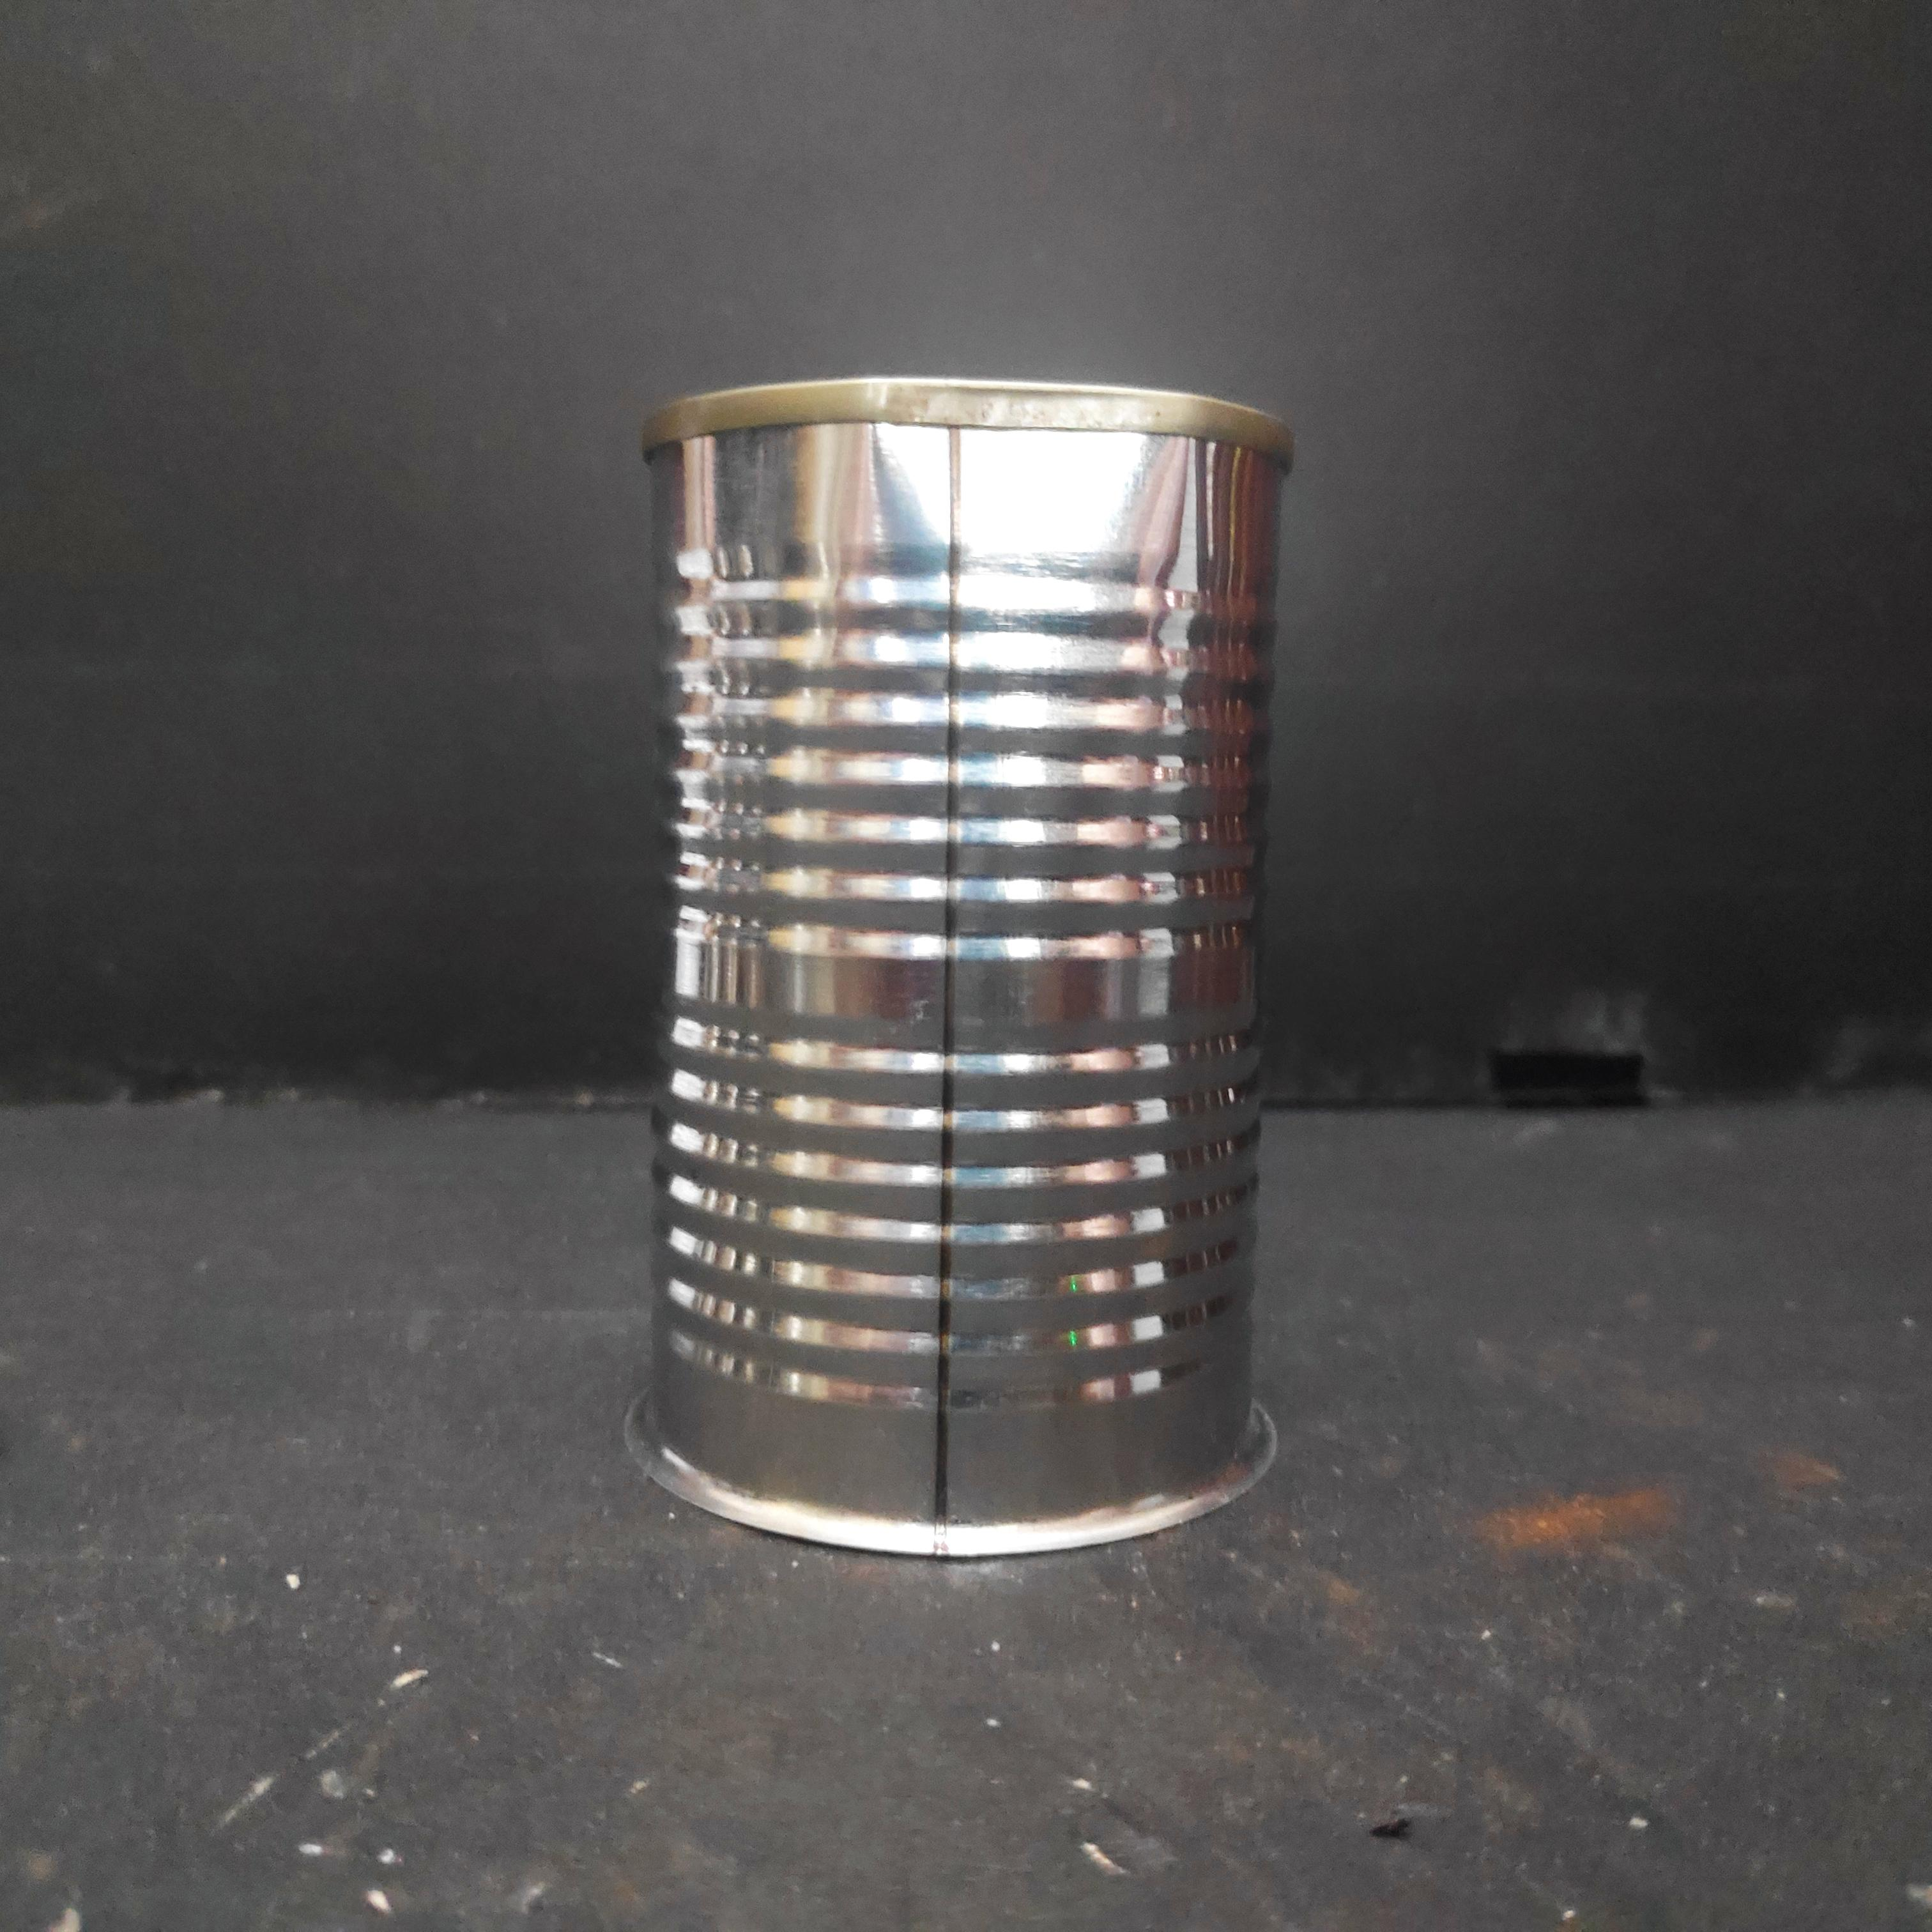Minor Defect: (628, 359, 1307, 1559)
